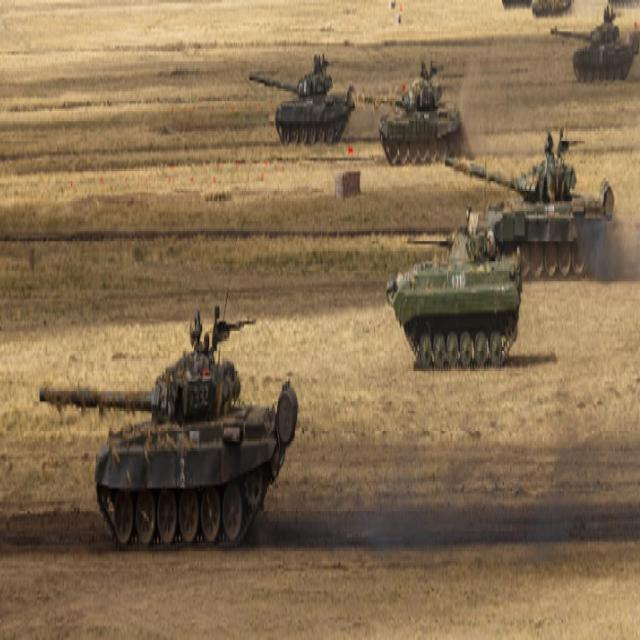APC-IFV: (384, 228, 520, 368)
TANK: (34, 318, 302, 554), (440, 146, 618, 282), (358, 64, 467, 165), (242, 59, 356, 143), (546, 20, 634, 83)
